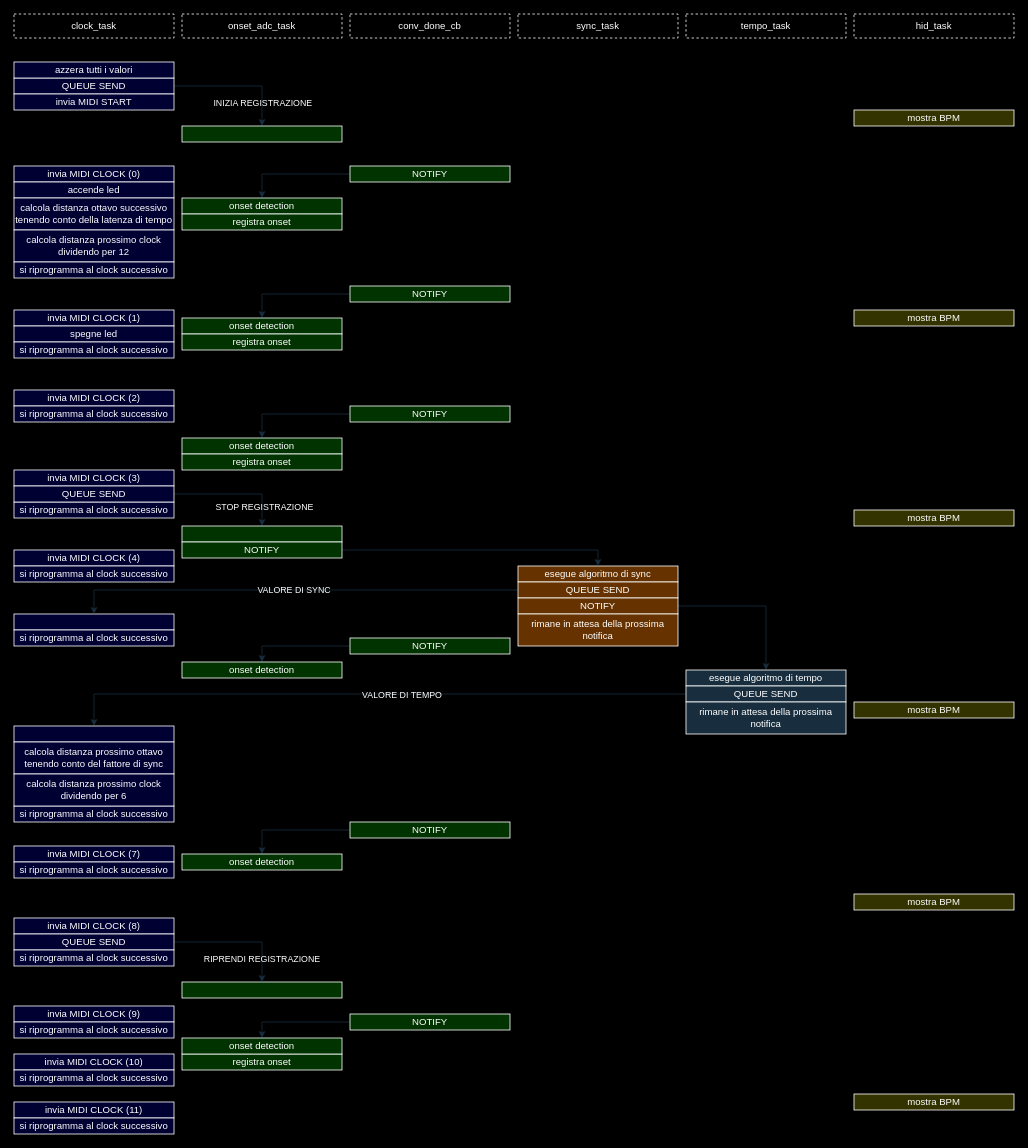
Image size: 1028x1148. Some labels were removed from this diagram. The shapes that lost their labels are listed below. From the top down, each one's centre as x and y in pixels, then its label:
(261,133): inizia a registrare gli onset
(261,533): interrompe registrazione onset
(93,621): invia MIDI CLOCK (5)
(93,733): invia MIDI CLOCK (6)
(261,989): riprende registrazione onsets
